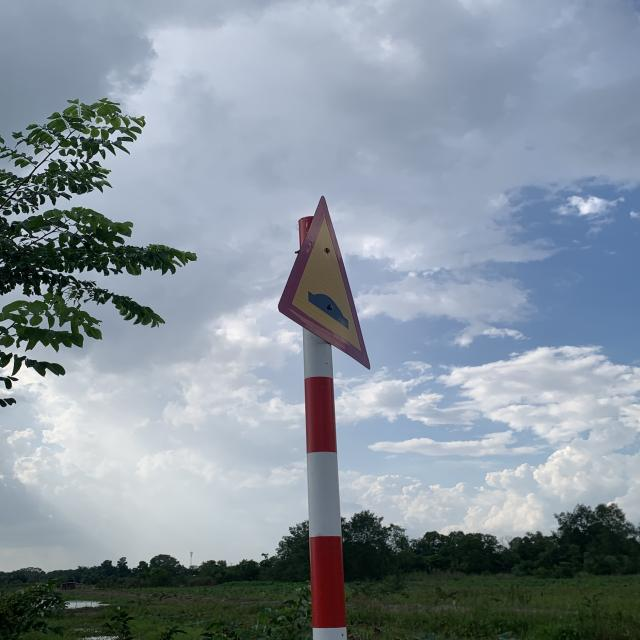Duong_Cong_Ben_Phai: (275, 195, 375, 371)
